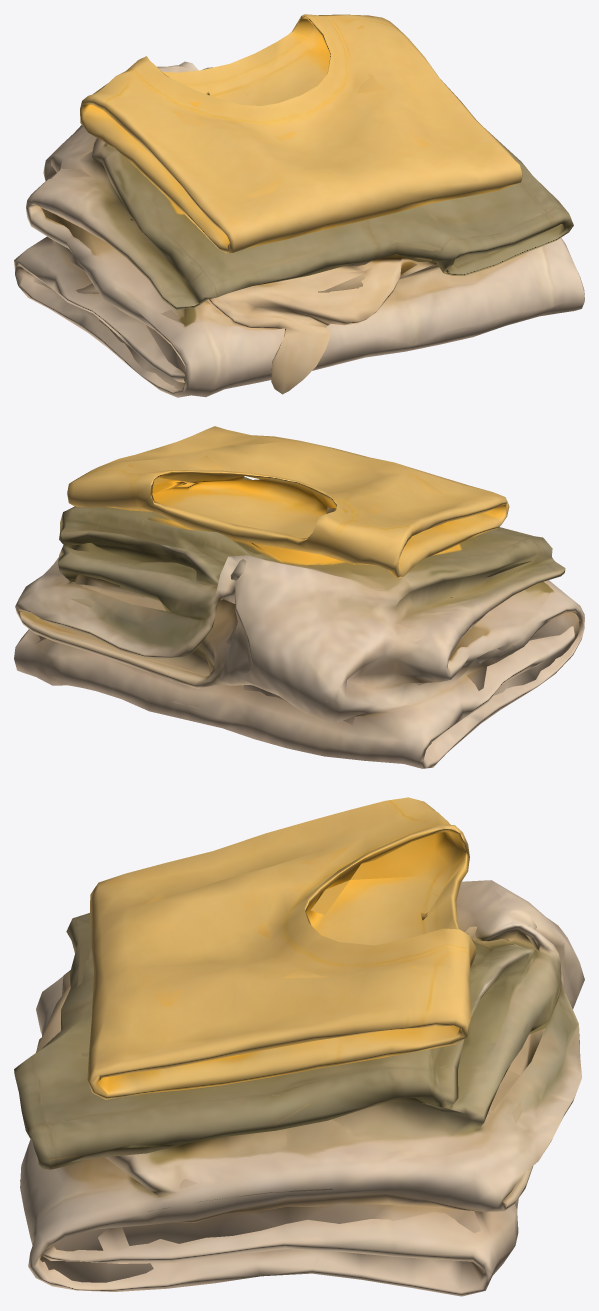
Rendered from clothes3.fbx.
3 renders of one model, top to bottom at view 1: azimuth 30°, elevation 25°; view 2: azimuth 150°, elevation 25°; view 3: azimuth 270°, elevation 25°, orthographic. The views are drawn at different scales.
Visible parts, largest first — view 1: geometry_0; view 2: geometry_0; view 3: geometry_0.
Part boxes in pixels (left/top/right/bottom): geometry_0: left=14, top=14, right=584, bottom=397; geometry_0: left=14, top=426, right=584, bottom=768; geometry_0: left=14, top=797, right=584, bottom=1296.
Bounding box in the file's own units: 100 × 51.74 × 91.51.
1 material, 1 textured.
